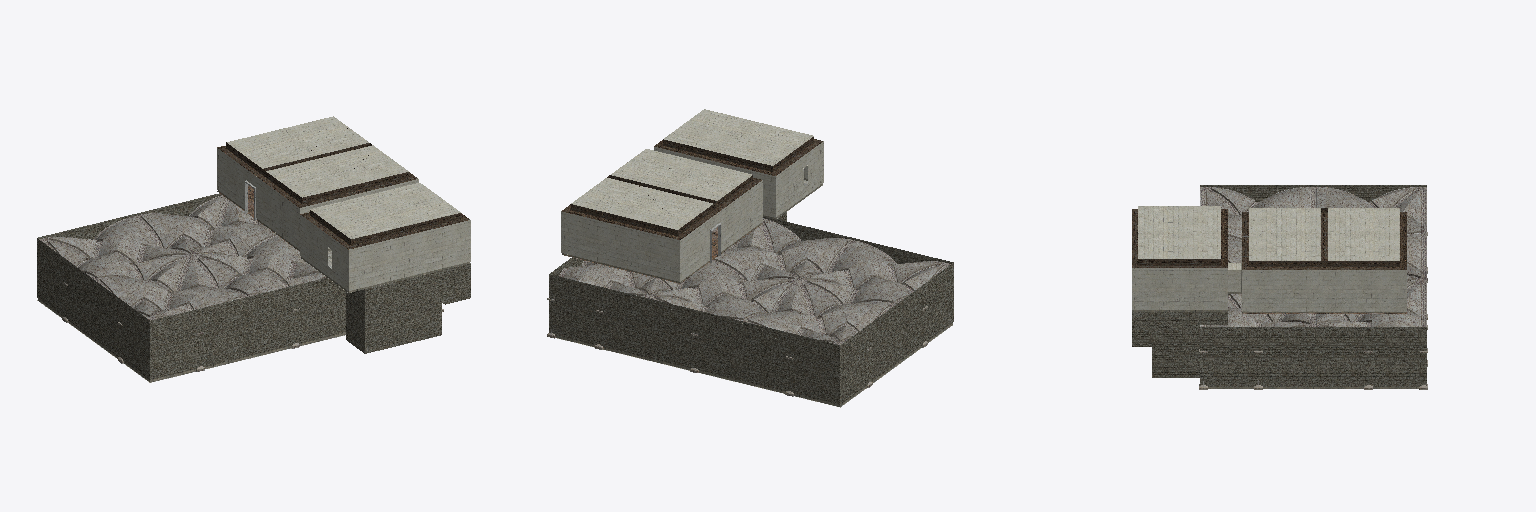
The picture shows the model from 3 angles: view 1: azimuth 30°, elevation 25°; view 2: azimuth 150°, elevation 25°; view 3: azimuth 270°, elevation 25°; orthographic projection.
Visible parts, largest first — view 1: mesh8, mesh3, mesh9, mesh10, mesh5, mesh11; view 2: mesh8, mesh3, mesh9, mesh10, mesh5, mesh11; view 3: mesh3, mesh8, mesh9, mesh5, mesh10, mesh11.
Boxes of the visible parts, box(x1,y1,x2,y2) form: mesh8: box(37, 193, 470, 379); mesh3: box(217, 116, 470, 290); mesh9: box(48, 196, 323, 315); mesh10: box(39, 195, 443, 371); mesh5: box(217, 128, 469, 249); mesh11: box(38, 190, 470, 382); mesh8: box(549, 212, 953, 404); mesh3: box(561, 109, 823, 281); mesh9: box(563, 220, 942, 340); mesh10: box(547, 218, 950, 396); mesh5: box(562, 137, 822, 239); mesh11: box(556, 178, 952, 406); mesh3: box(1132, 206, 1406, 311); mesh8: box(1132, 185, 1426, 386); mesh9: box(1206, 187, 1420, 326); mesh5: box(1132, 208, 1406, 269); mesh10: box(1199, 187, 1427, 389); mesh11: box(1132, 292, 1418, 388).
Bounding box in the file's own units: 24.71 × 10 × 21.58.
Materials: 13 (13 with a texture image).